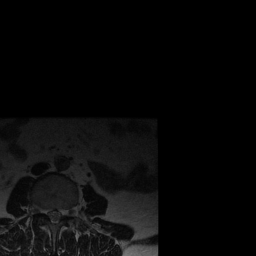CCS_stenosis: (52, 203, 57, 228)
LFS_normal: (62, 203, 68, 220)
LLS_normal: (57, 203, 62, 224)
RFS_normal: (41, 202, 46, 219)
RLS_normal: (46, 203, 52, 222)
